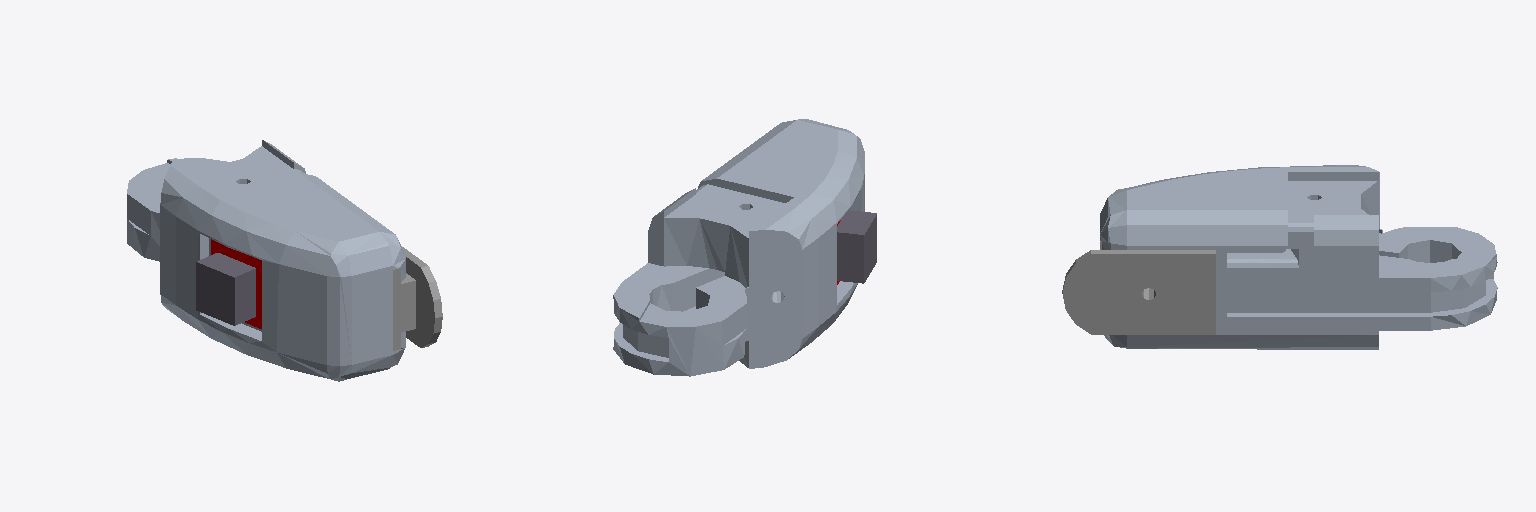
Rendered from fingertip_r.obj.
3 renders of one model, left to right at view 1: azimuth 30°, elevation 25°; view 2: azimuth 150°, elevation 25°; view 3: azimuth 270°, elevation 25°, orthographic.
Size of the model in its own units: 0.0202 by 0.017 by 0.0487.